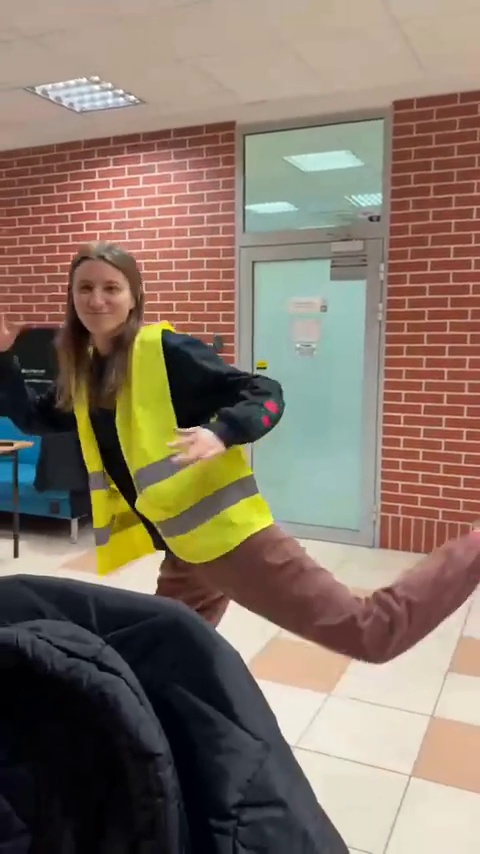vest: (51, 237, 402, 680)
